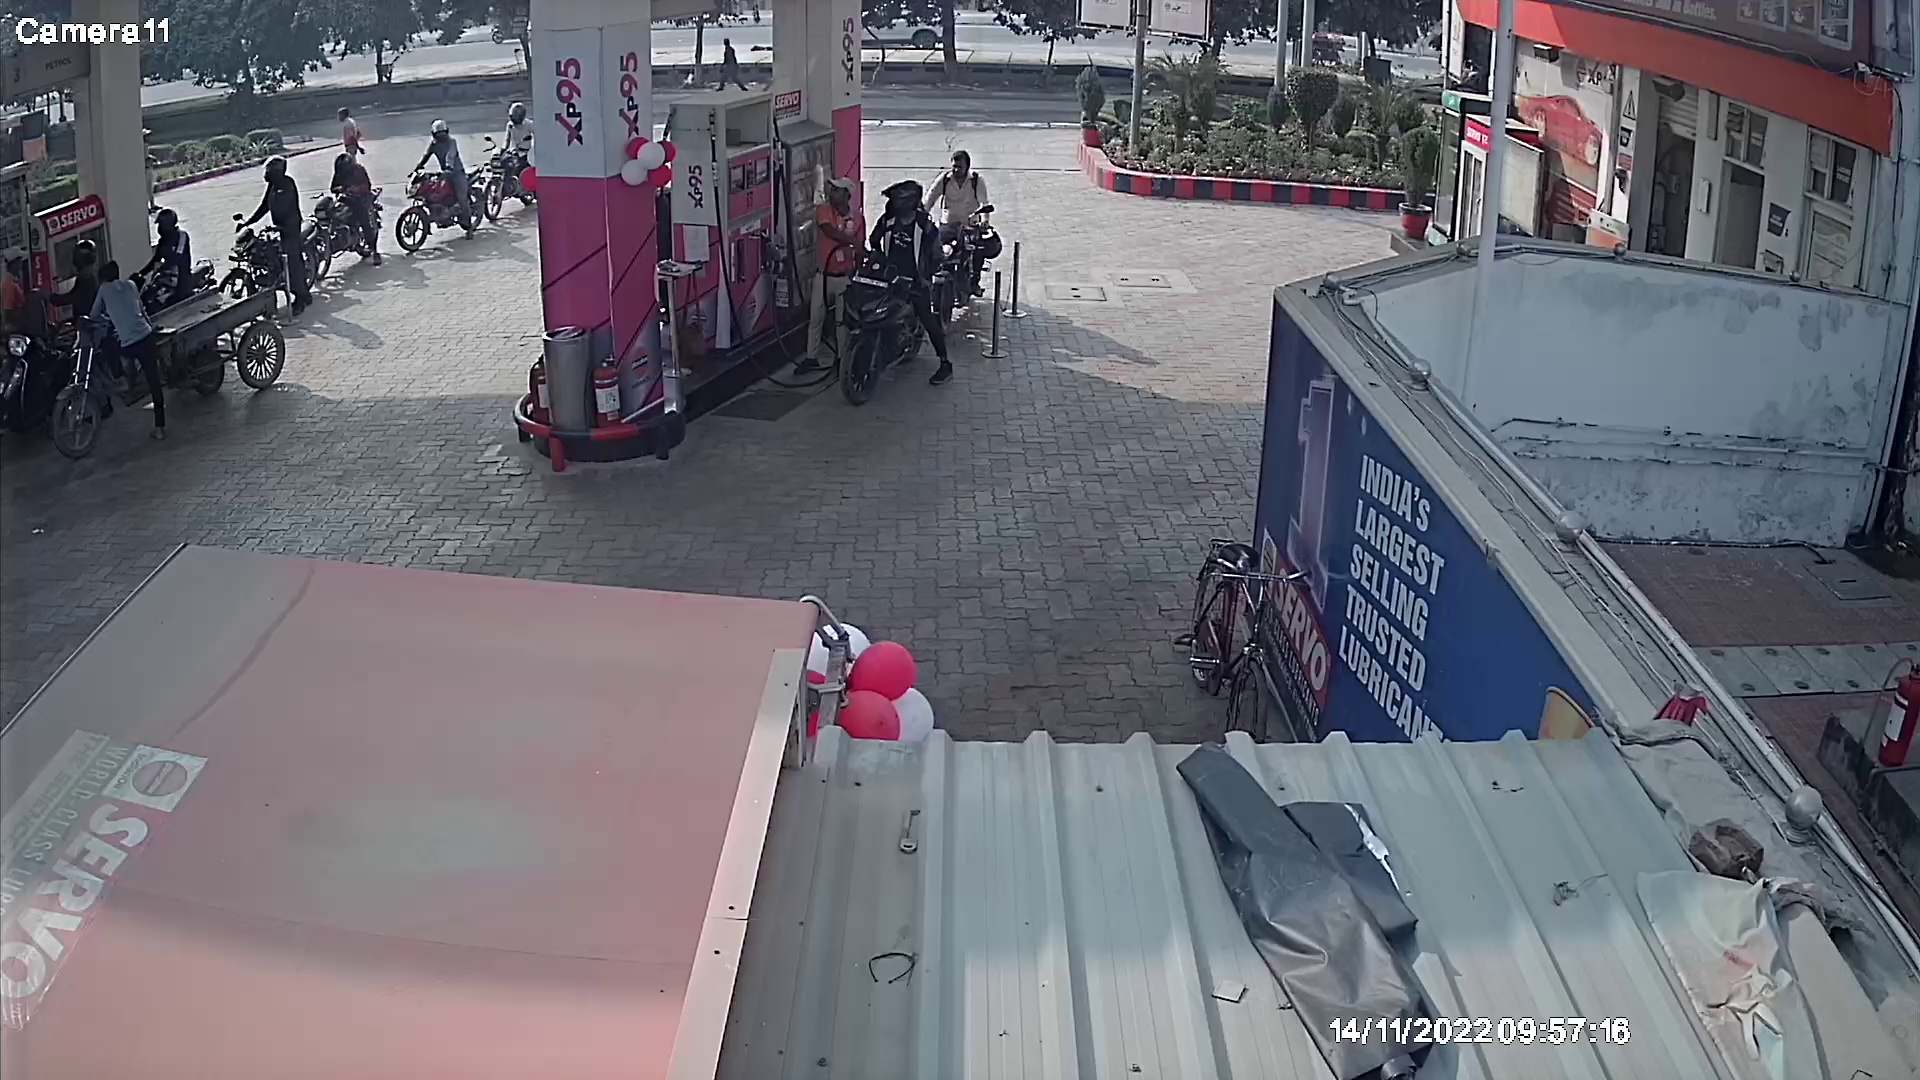Bike: (1, 206, 291, 473), (836, 175, 968, 413), (218, 149, 340, 310), (919, 144, 1005, 338), (389, 111, 502, 255), (294, 119, 396, 278), (475, 94, 541, 225)
Others: (785, 166, 868, 375), (4, 237, 40, 361), (138, 117, 160, 229)
